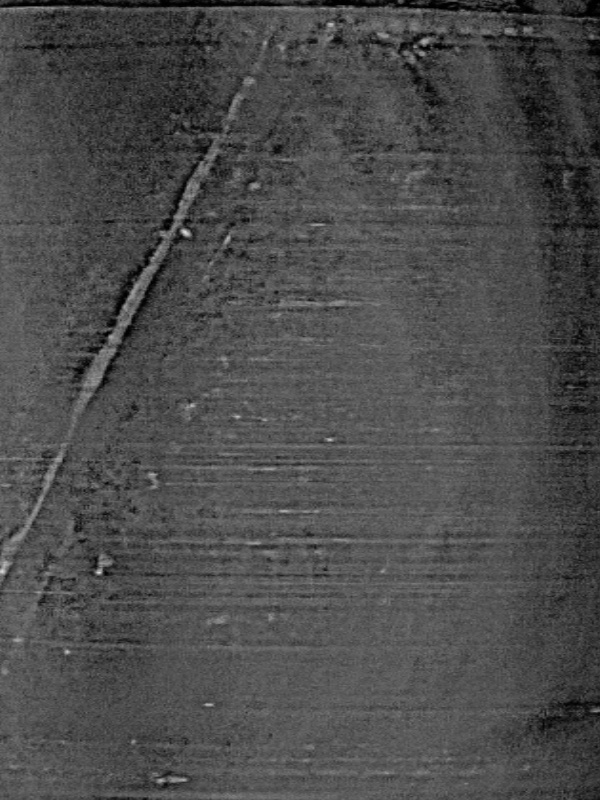splice_vulcanized: (1, 9, 320, 669)
